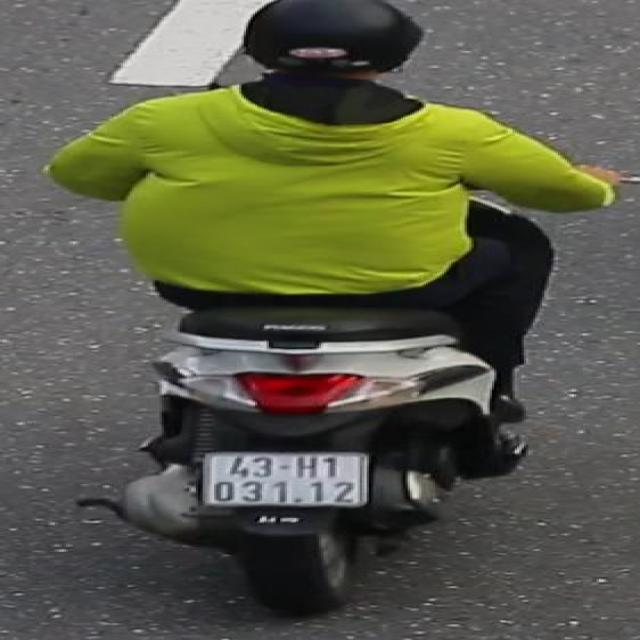LP: (197, 448, 375, 514)
helmet: (238, 0, 429, 98)
